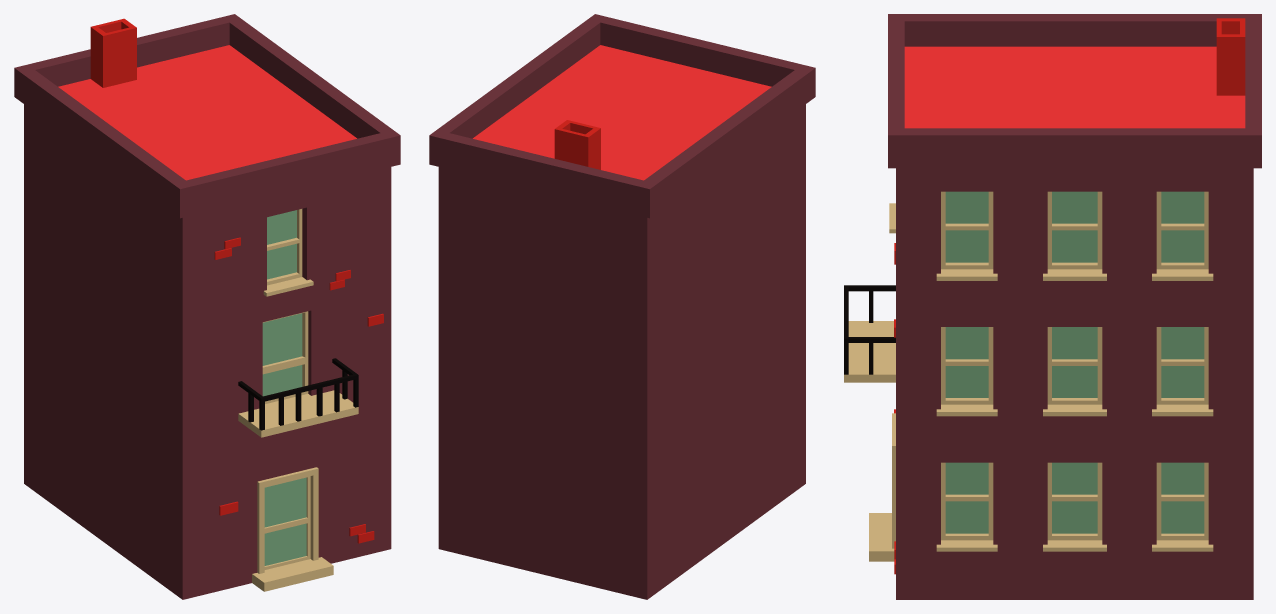
File: FBX_House_A.fbx
3 views of the same model, side by side, from view 1: azimuth 30°, elevation 25°; view 2: azimuth 150°, elevation 25°; view 3: azimuth 270°, elevation 25° (orthographic). The views are drawn at different scales.
Parts seen in each view (by area): view 1: House_A; view 2: House_A; view 3: House_A.
Part boxes in pixels (x1,y1,x2,y2): House_A: (14, 14, 400, 599); House_A: (429, 14, 815, 599); House_A: (844, 14, 1261, 599).
Size of the model in its own units: 6.34 by 12.21 by 9.23.
